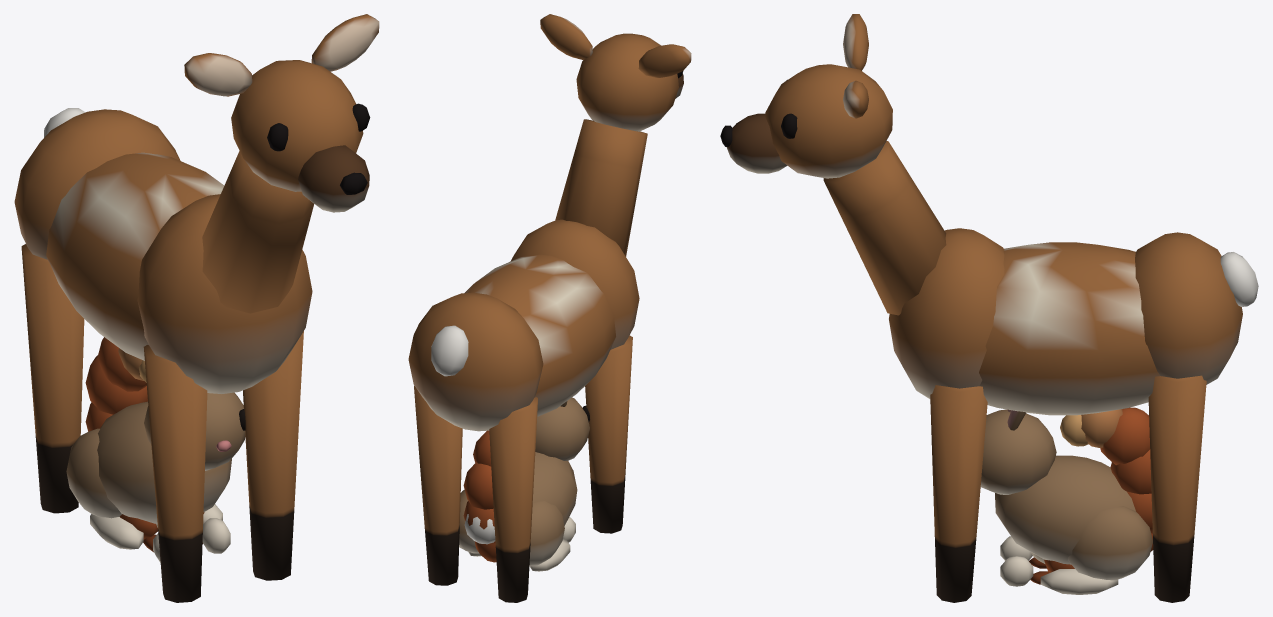
Rendered from critters.glb.
3 views of the same model, side by side, from view 1: azimuth 30°, elevation 25°; view 2: azimuth 150°, elevation 25°; view 3: azimuth 270°, elevation 25° (orthographic). The views are drawn at different scales.
Parts seen in each view (by area): view 1: Critter_Deer, Critter_Rabbit, Critter_Squirrel; view 2: Critter_Deer, Critter_Rabbit, Critter_Squirrel; view 3: Critter_Deer, Critter_Rabbit, Critter_Squirrel.
Part boxes in pixels (x1=…): Critter_Deer: x1=14, y1=14, x2=379, y2=602; Critter_Rabbit: x1=66, y1=392, x2=245, y2=562; Critter_Squirrel: x1=85, y1=337, x2=204, y2=552; Critter_Deer: x1=408, y1=14, x2=691, y2=602; Critter_Rabbit: x1=459, y1=397, x2=589, y2=571; Critter_Squirrel: x1=463, y1=430, x2=496, y2=562; Critter_Deer: x1=720, y1=14, x2=1258, y2=602; Critter_Rabbit: x1=980, y1=409, x2=1152, y2=594; Critter_Squirrel: x1=1029, y1=407, x2=1153, y2=584.
Size of the model in its own units: 0.3599 by 1.06 by 0.9876.
